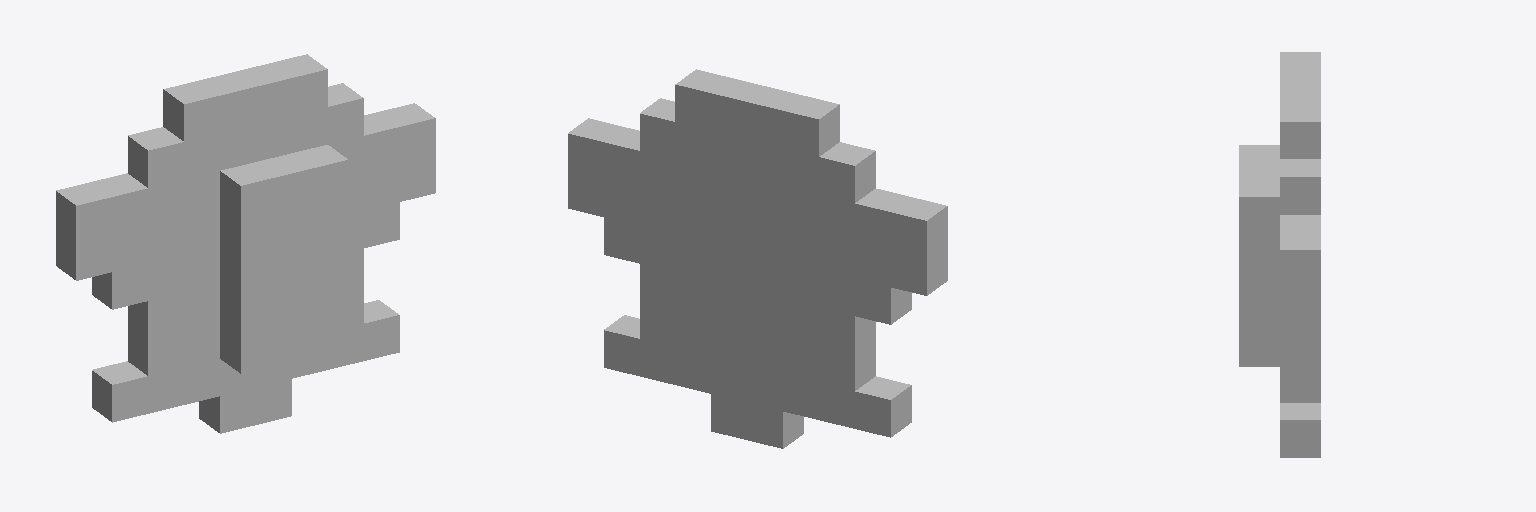
The model's file is Lander Radar.obj.
The picture shows the model from 3 angles: view 1: azimuth 30°, elevation 25°; view 2: azimuth 150°, elevation 25°; view 3: azimuth 270°, elevation 25°; orthographic projection.
Visible parts, largest first — view 1: object 1; view 2: object 1; view 3: object 1.
Boxes of the visible parts, box(x1,y1,x2,y2) form: object 1: box(56, 54, 435, 433); object 1: box(568, 69, 947, 448); object 1: box(1239, 52, 1320, 457).
Size of the model in its own units: 1 by 0.9 by 0.2.